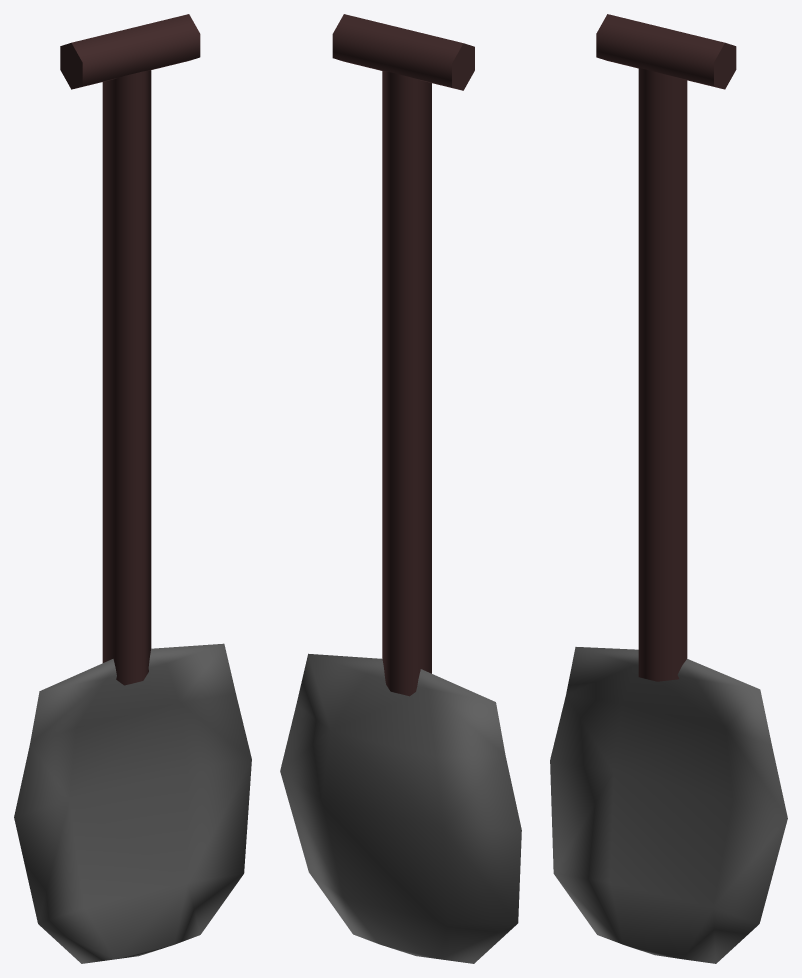
The model's file is Shovel.fbx.
3 views of the same model, side by side, from view 1: azimuth 30°, elevation 25°; view 2: azimuth 150°, elevation 25°; view 3: azimuth 330°, elevation 25° (orthographic).
Visible parts, largest first — view 1: woodhandle1; view 2: woodhandle1; view 3: woodhandle1.
Part boxes in pixels (x1,y1,x2,y2): woodhandle1: (14,14,251,963); woodhandle1: (280,14,521,963); woodhandle1: (550,14,787,963).
Size of the model in its own units: 12.6 by 46.54 by 2.95.
